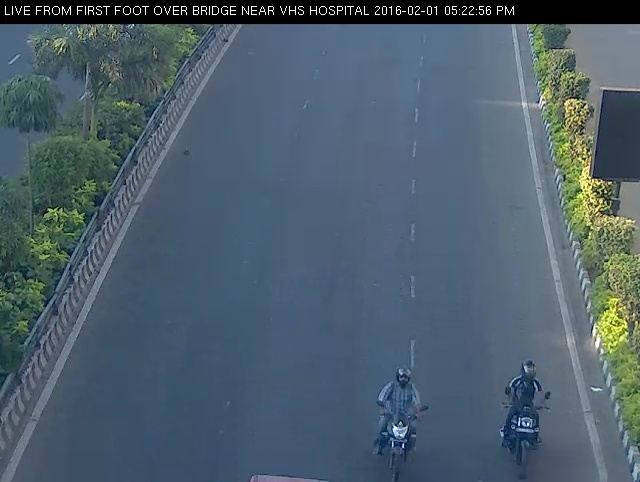Person: (493, 347, 565, 482), (372, 353, 434, 482)
